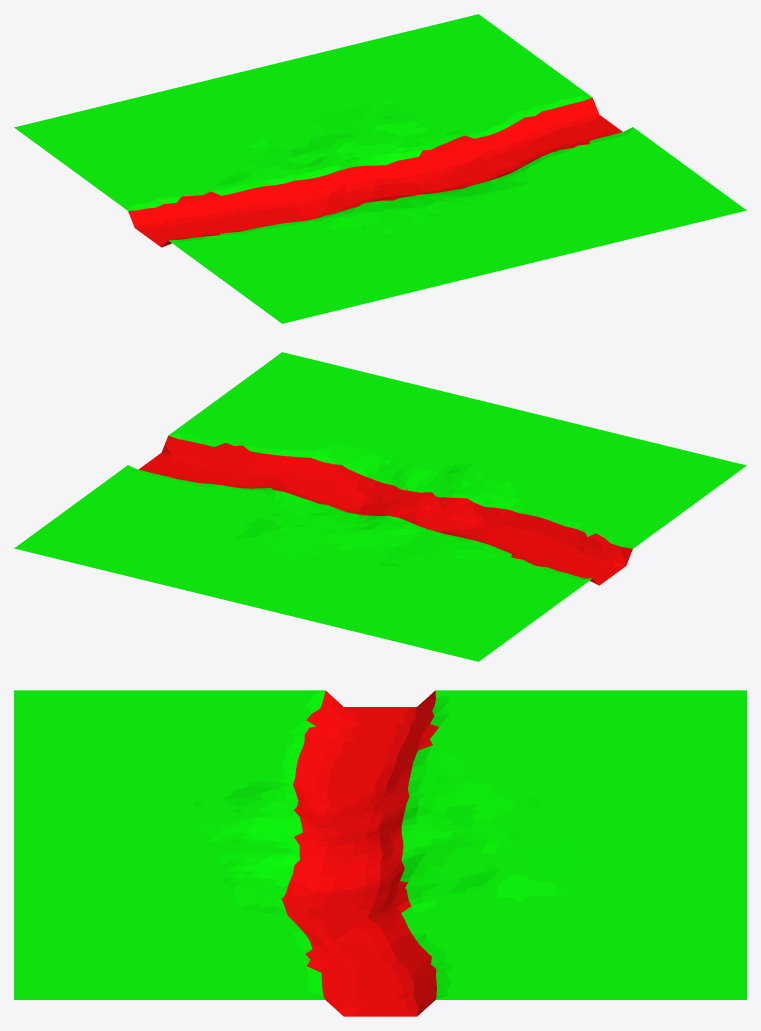
File: River02.fbx
The picture shows the model from 3 angles, top to bottom: view 1: azimuth 30°, elevation 25°; view 2: azimuth 150°, elevation 25°; view 3: azimuth 270°, elevation 25°; orthographic projection. The views are drawn at different scales.
Parts seen in each view (by area): view 1: River02; view 2: River02; view 3: River02.
Part boxes in pixels (left/top/right/bottom): River02: left=14, top=14, right=746, bottom=323; River02: left=14, top=352, right=746, bottom=661; River02: left=14, top=690, right=746, bottom=1016.
Bounding box in the file's own units: 5009 × 213 × 5009.
